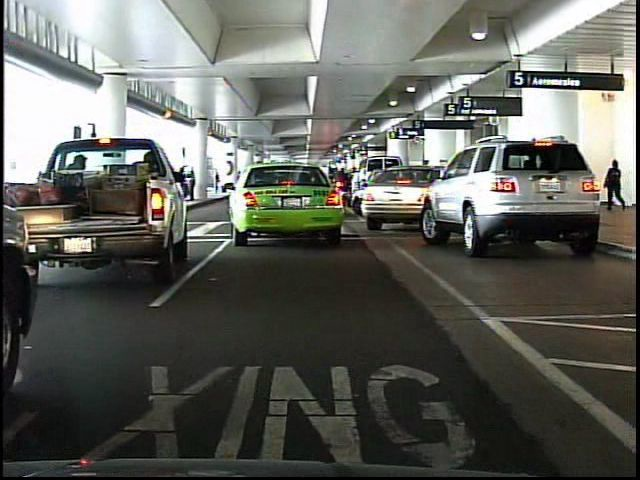person: (604, 157, 628, 215)
